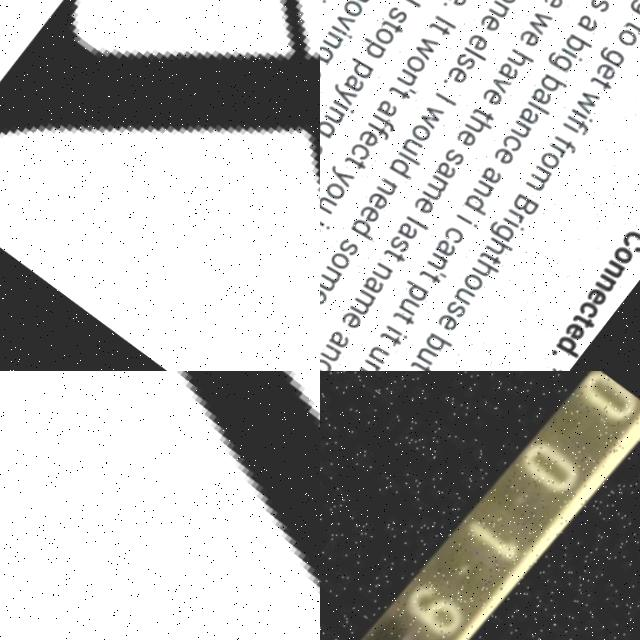0: (513, 434, 595, 515), (571, 371, 640, 441)
1: (457, 507, 537, 584)
9: (395, 573, 479, 640)
J: (0, 371, 320, 640)
X: (0, 0, 320, 371)
